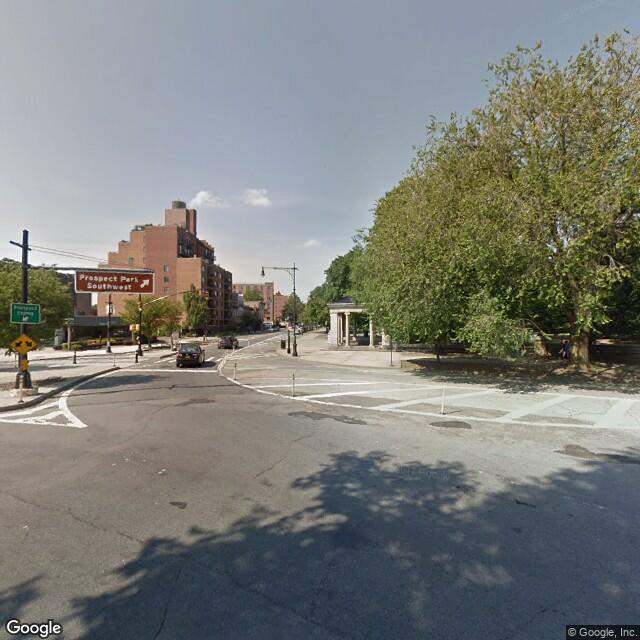litter: (159, 466, 166, 473), (126, 458, 134, 463), (110, 460, 115, 464)
